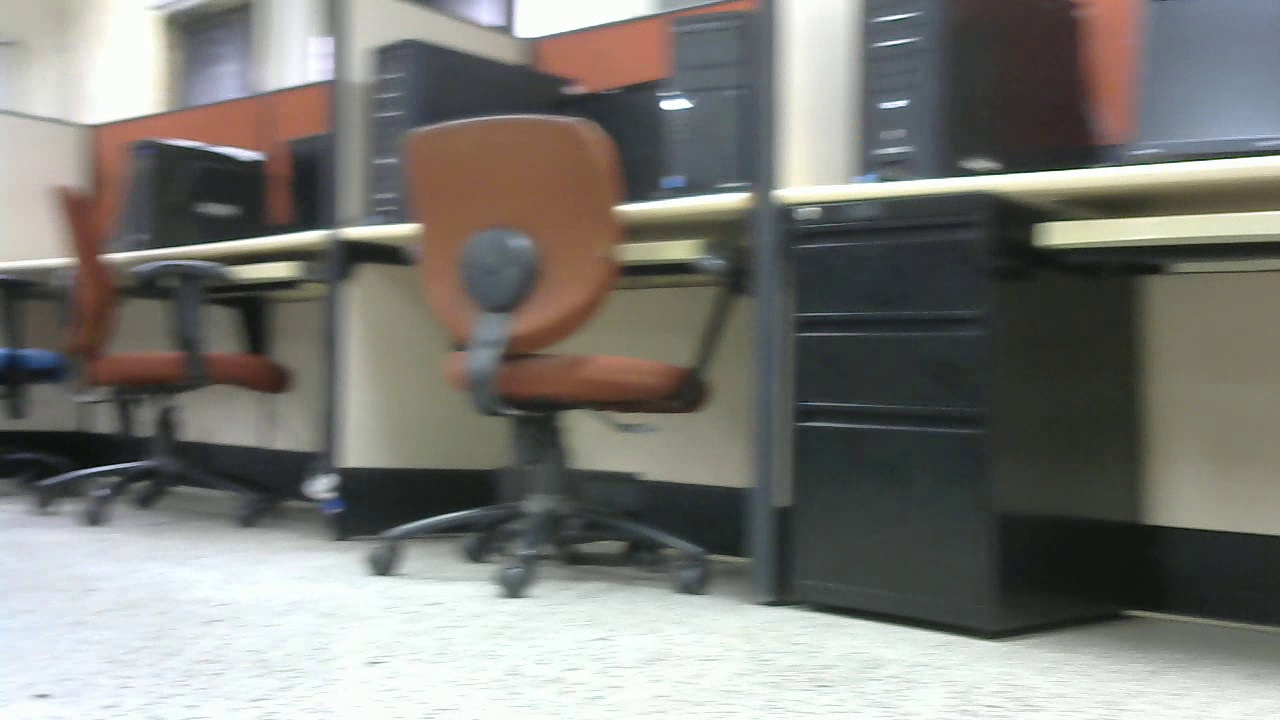chair: (367, 111, 758, 594), (34, 181, 293, 526)
